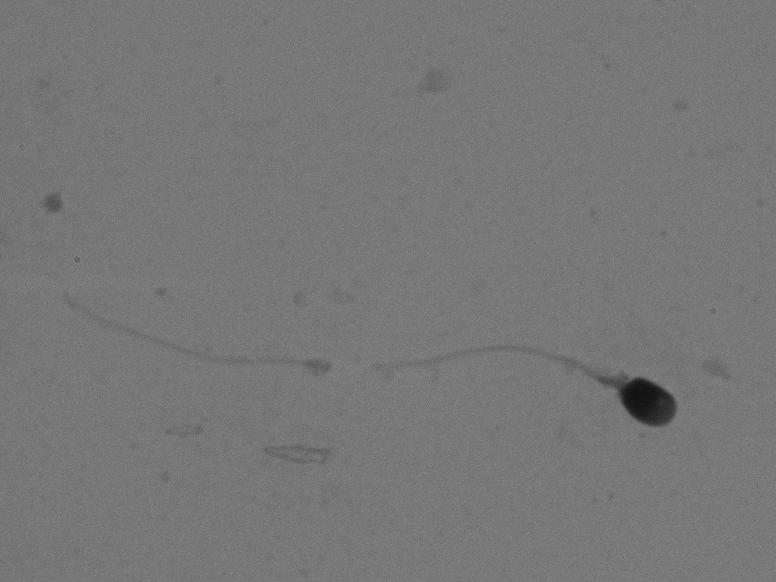Abnormal: (41, 248, 685, 446)
